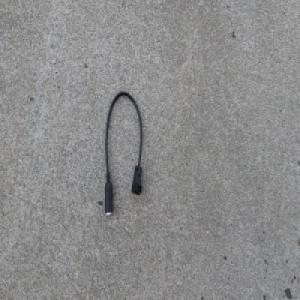Wire: (103, 89, 144, 219)
